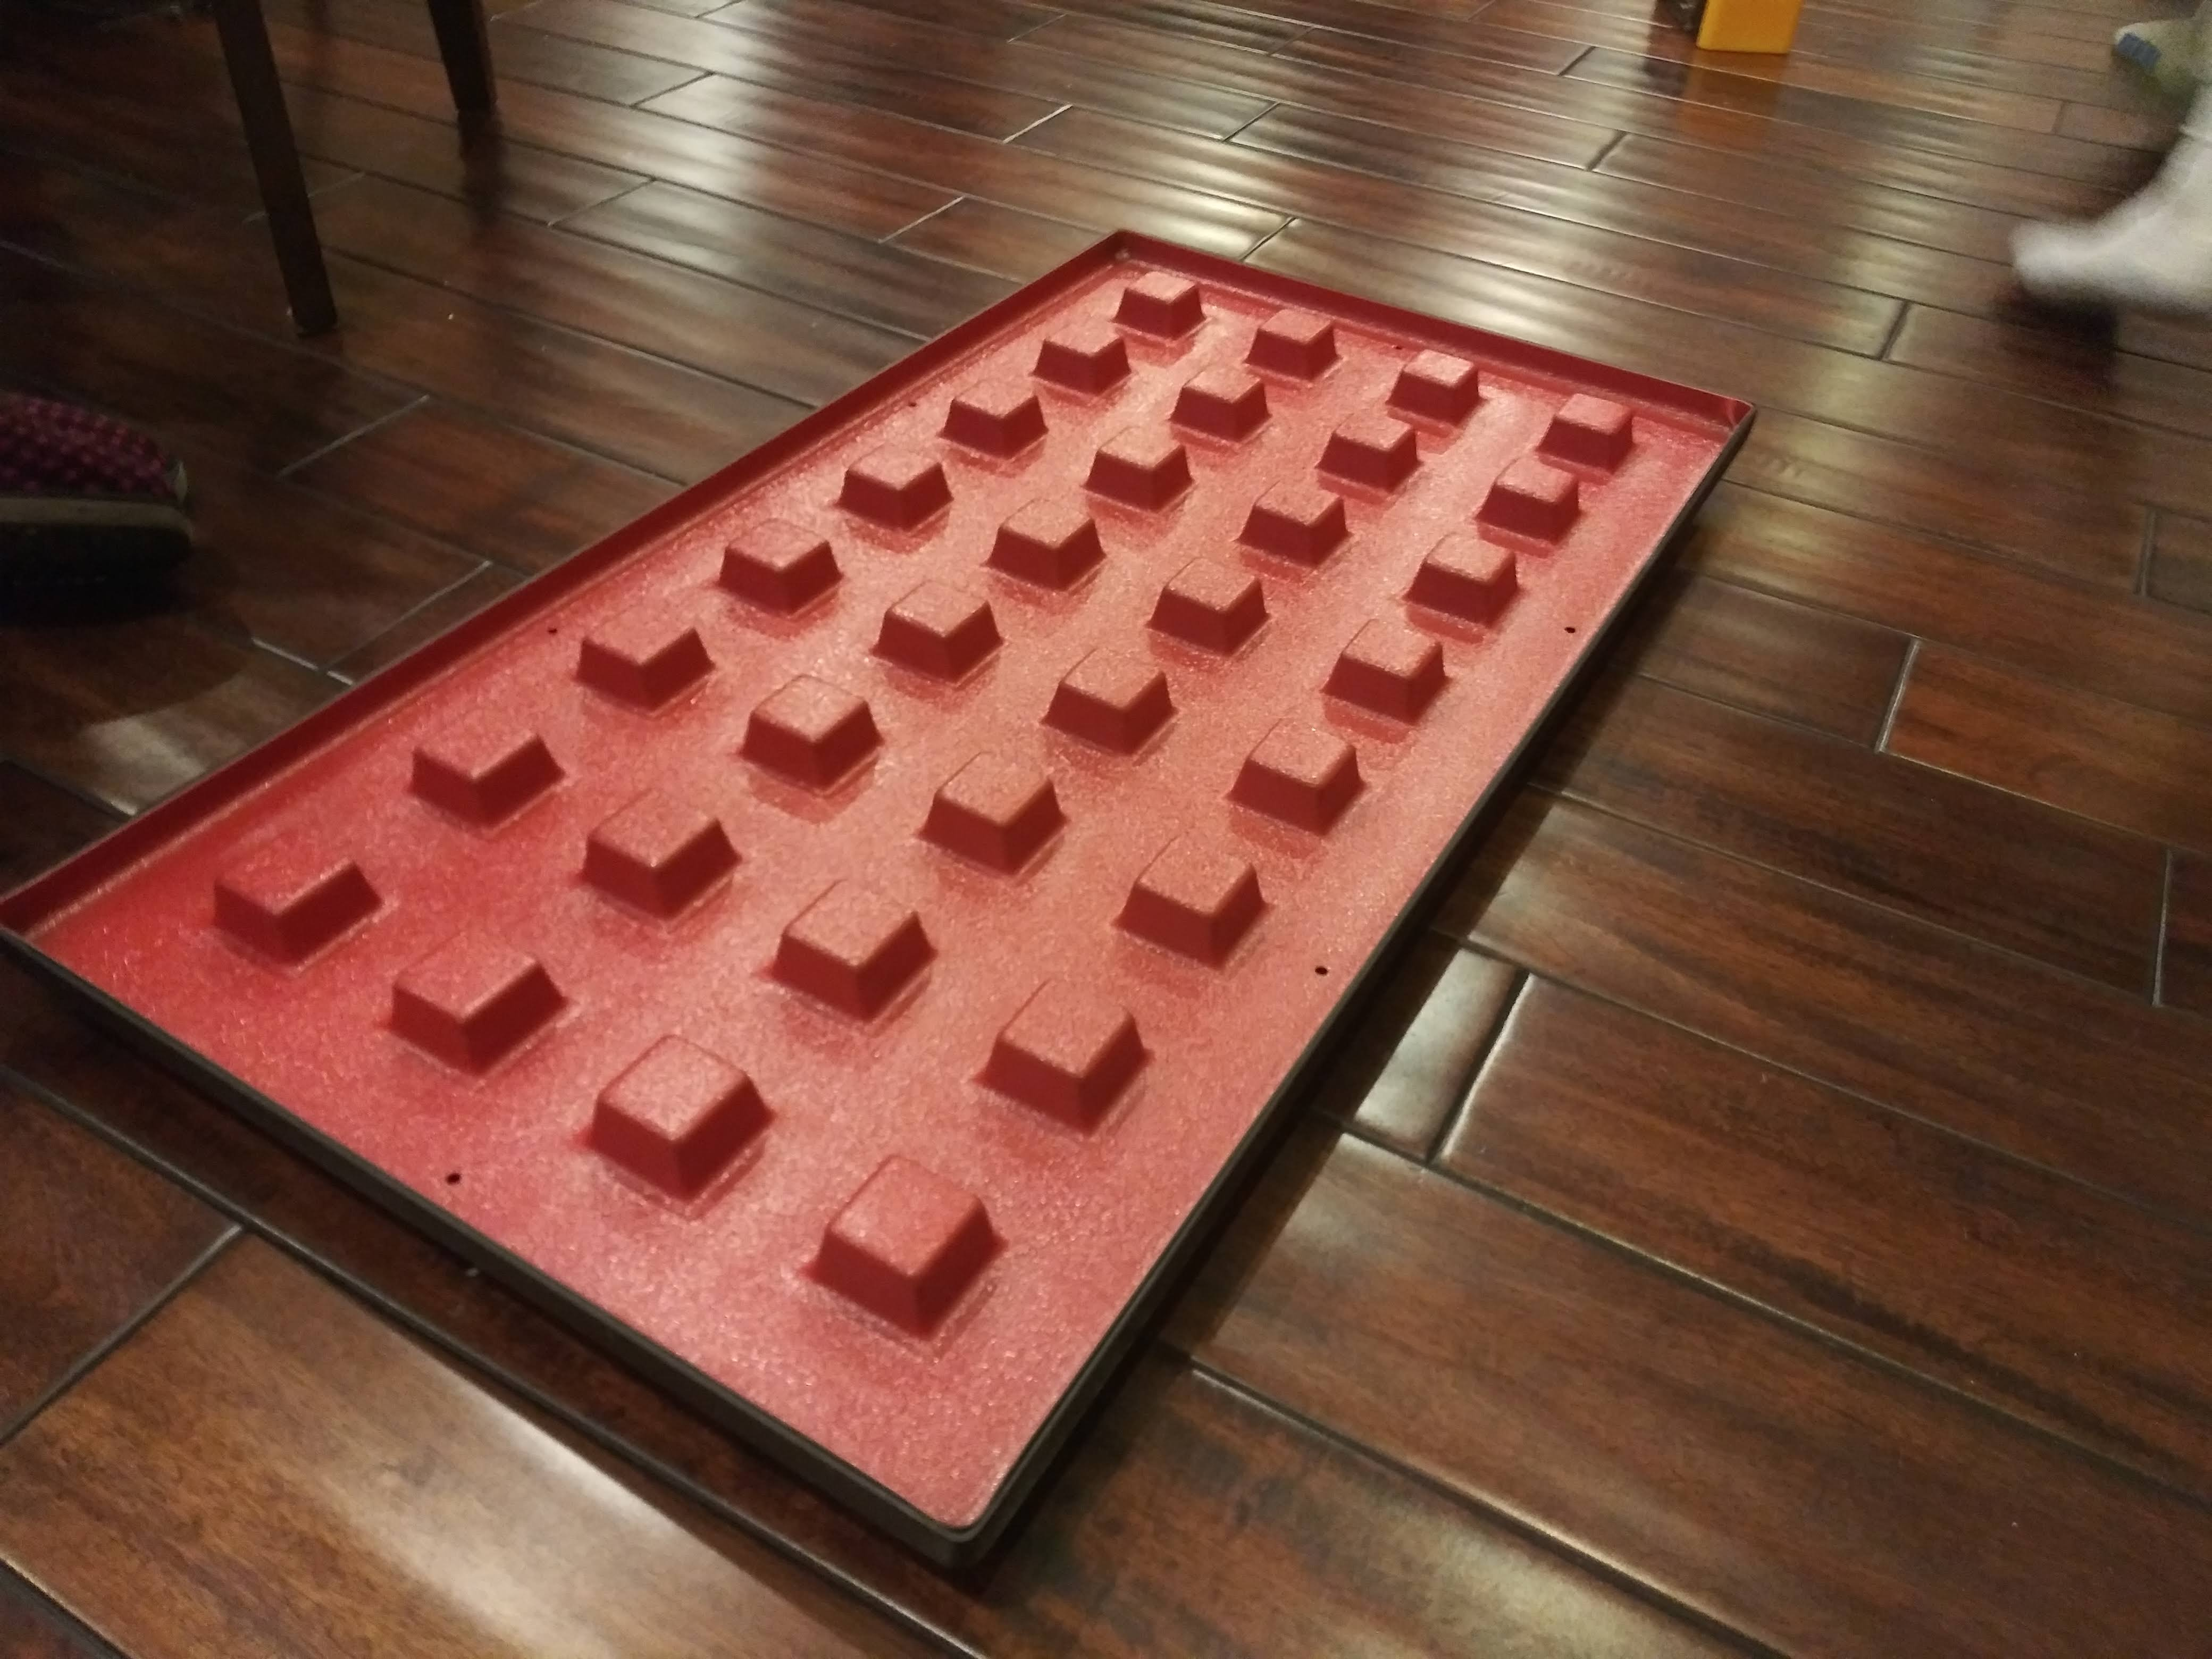red foundation: (51, 214, 1782, 1490)
